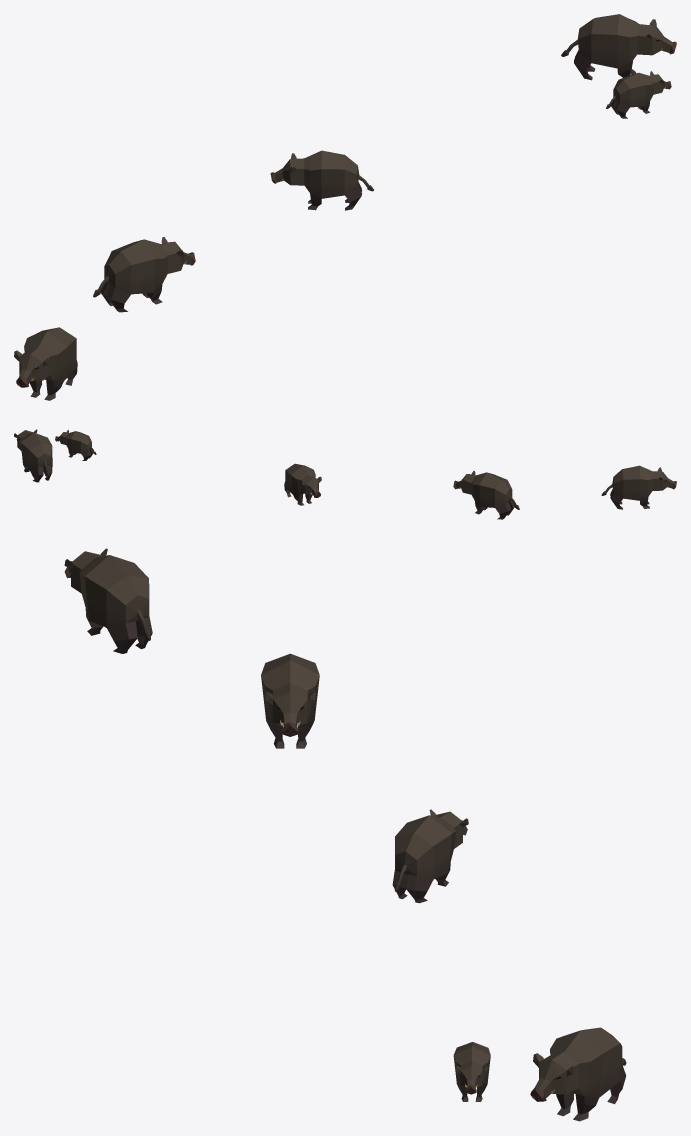
Rendered from Boars.gltf.
3 views of the same model, one above another, from view 1: azimuth 30°, elevation 25°; view 2: azimuth 150°, elevation 25°; view 3: azimuth 270°, elevation 25° (orthographic). The views are drawn at different scales.
Parts seen in each view (by area): view 1: Boar.001, Boar, Boar.004, Boar.003, Boar.002; view 2: Boar.003, Boar, Boar.001, Boar.004, Boar.002; view 3: Boar.001, Boar.003, Boar.004, Boar, Boar.002.
Boxes of the visible parts, box(x1,y1,x2,y2) form: Boar.001: box(561, 14, 676, 80); Boar: box(93, 237, 195, 312); Boar.004: box(270, 150, 373, 210); Boar.003: box(14, 327, 77, 400); Boar.002: box(606, 71, 671, 118); Boar.003: box(601, 465, 676, 509); Boar: box(453, 471, 519, 519); Boar.001: box(14, 429, 52, 482); Boar.004: box(284, 463, 321, 505); Boar.002: box(55, 430, 96, 460); Boar.001: box(530, 1027, 626, 1121); Boar.003: box(64, 548, 152, 653); Boar.004: box(392, 809, 468, 903); Boar: box(261, 653, 319, 748); Boar.002: box(453, 1042, 490, 1101).
Bounding box in the file's own units: 12.16 × 0.856 × 5.44.
Materials: 1 (1 with a texture image).
